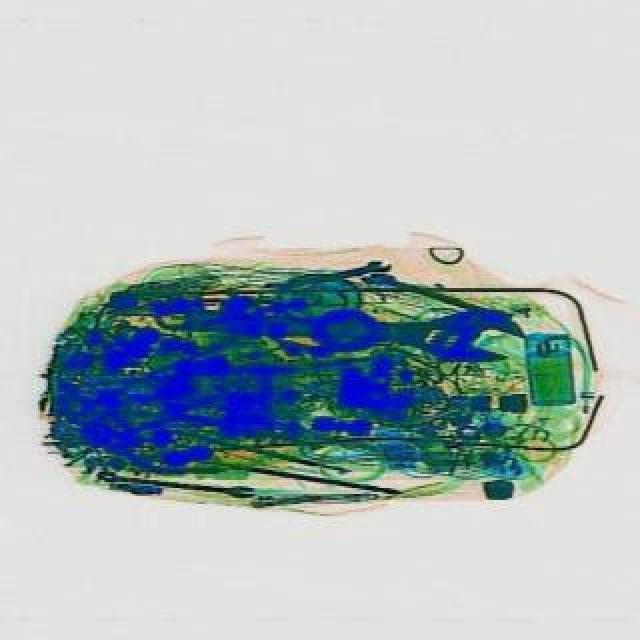scissors: (156, 282, 532, 366), (268, 254, 398, 298), (364, 264, 476, 314), (100, 468, 260, 498)
